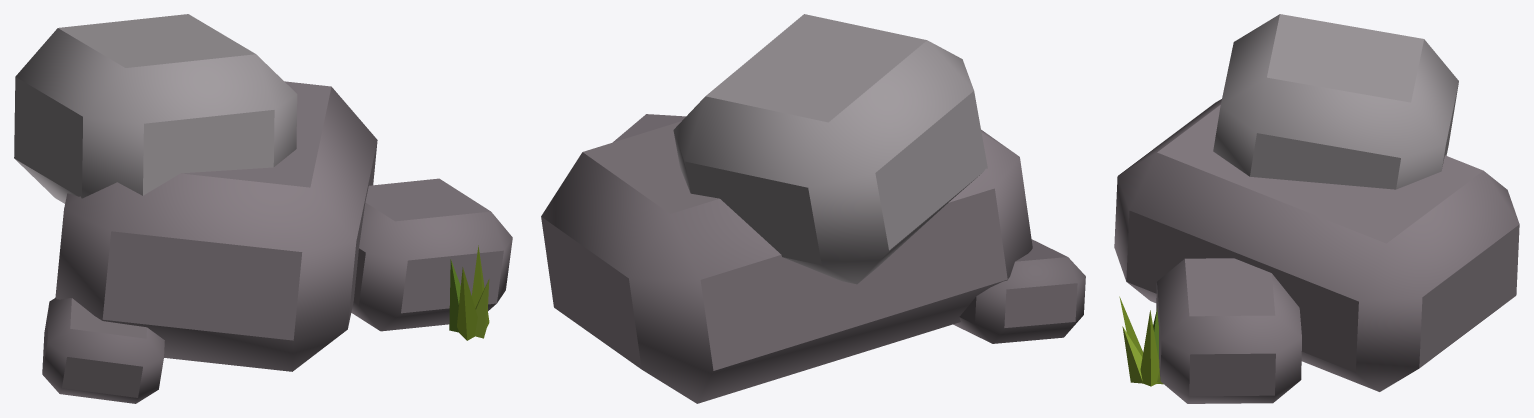
The model's file is p_rock_3.glb.
3 renders of one model, left to right at view 1: azimuth 30°, elevation 25°; view 2: azimuth 150°, elevation 25°; view 3: azimuth 270°, elevation 25°, orthographic. The views are drawn at different scales.
Parts seen in each view (by area): view 1: body; view 2: body; view 3: body.
Part boxes in pixels (x1=…): body: x1=14, y1=14, x2=512, y2=403; body: x1=541, y1=14, x2=1085, y2=403; body: x1=1114, y1=14, x2=1519, y2=403.
Bounding box in the file's own units: 2.64 × 1.7 × 2.3.
